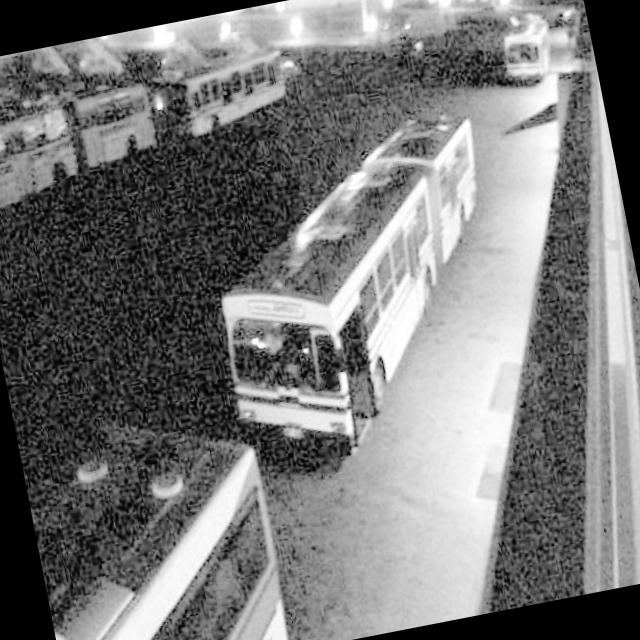Bus: (178, 92, 532, 469), (14, 369, 331, 640), (0, 49, 185, 244), (137, 28, 316, 168), (488, 0, 567, 100)
